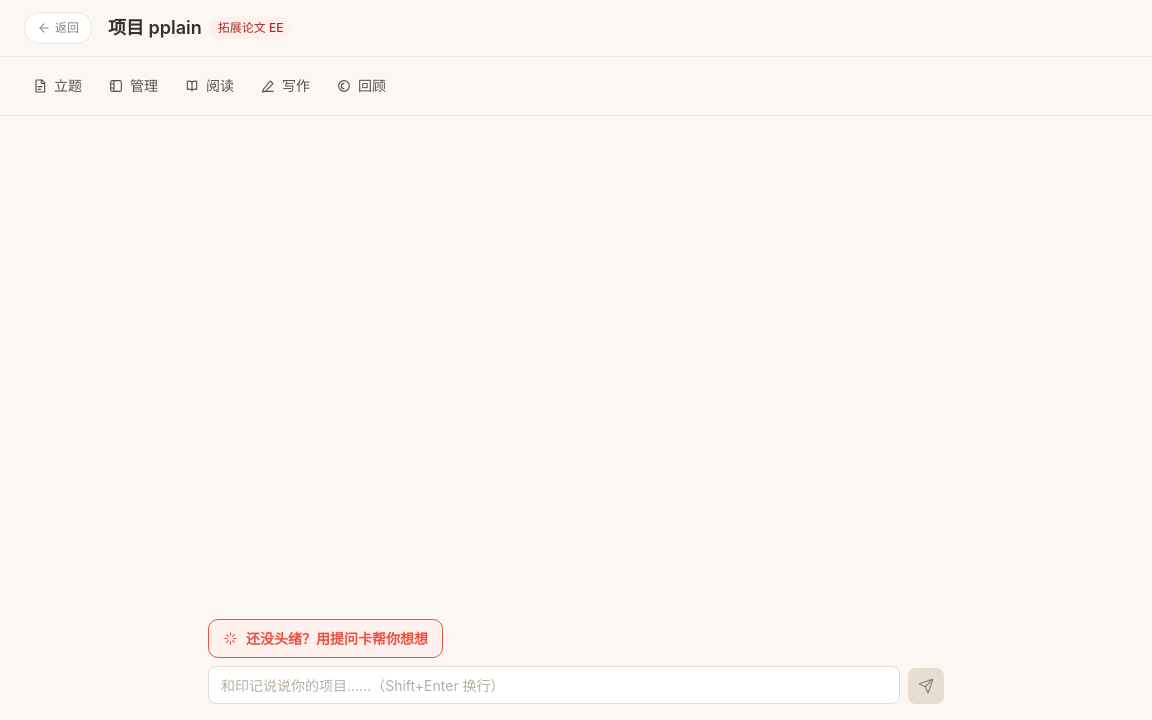
Test: WorkspaceContainer › a plain reply (no planGenerated/compacted) shows no subagent hint line
Type "你好" into the text box with placeholder "和印记说说你的项目……（Shift+Enter 换行）" at x=554, y=685, box [208,666,900,704]
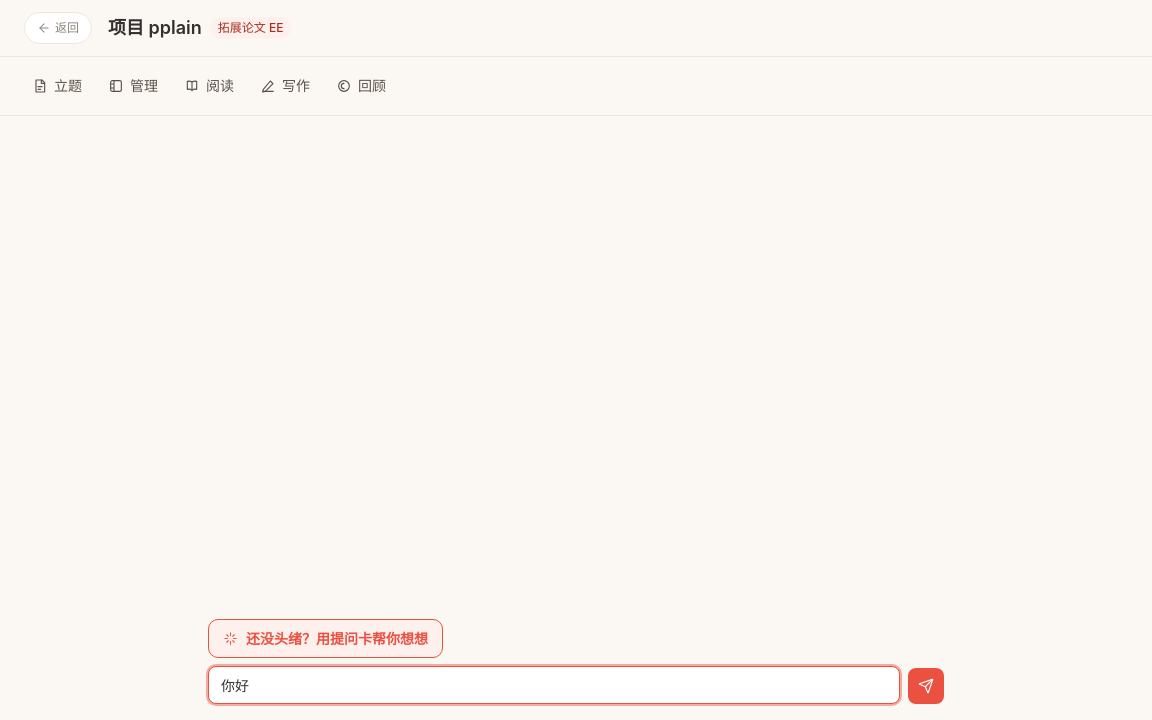
Click the button named "发送" at x=926, y=686, box [908,668,944,704]
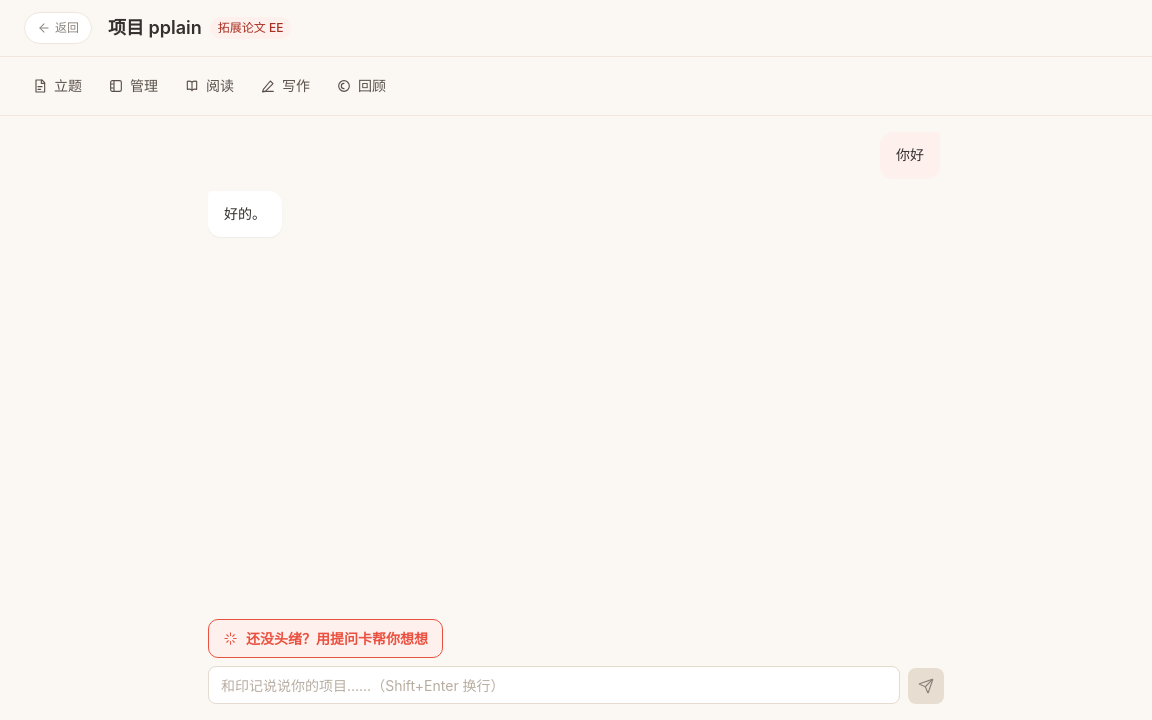
Check: the text "好的。" is shown, box [224,203,266,225]
